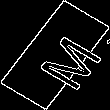M_NW: (17, 22, 93, 88)
